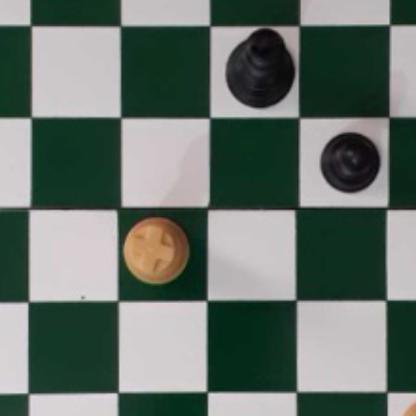black-king: (221, 25, 297, 108)
black-pawn: (320, 127, 380, 195)
white-king: (397, 397, 416, 416)
white-rook: (123, 216, 191, 286)
